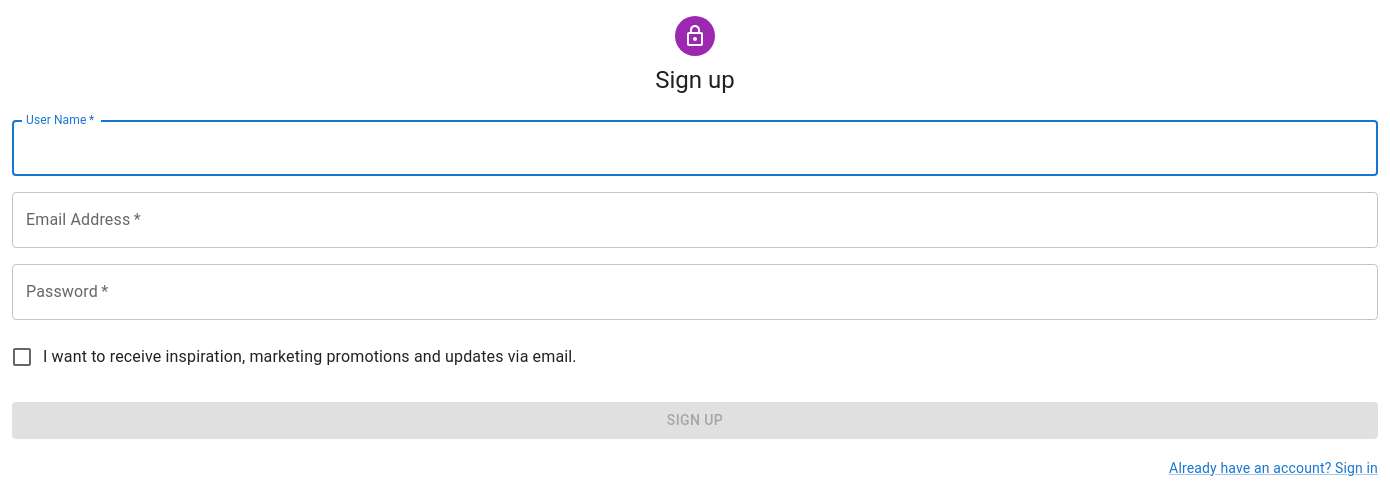
Test: SignUp Component › Form Interaction › should enable Sign Up button when form is valid
Type "Zaina" into the field labelled "User Name *" at (695, 148), box [12,120,1378,176]
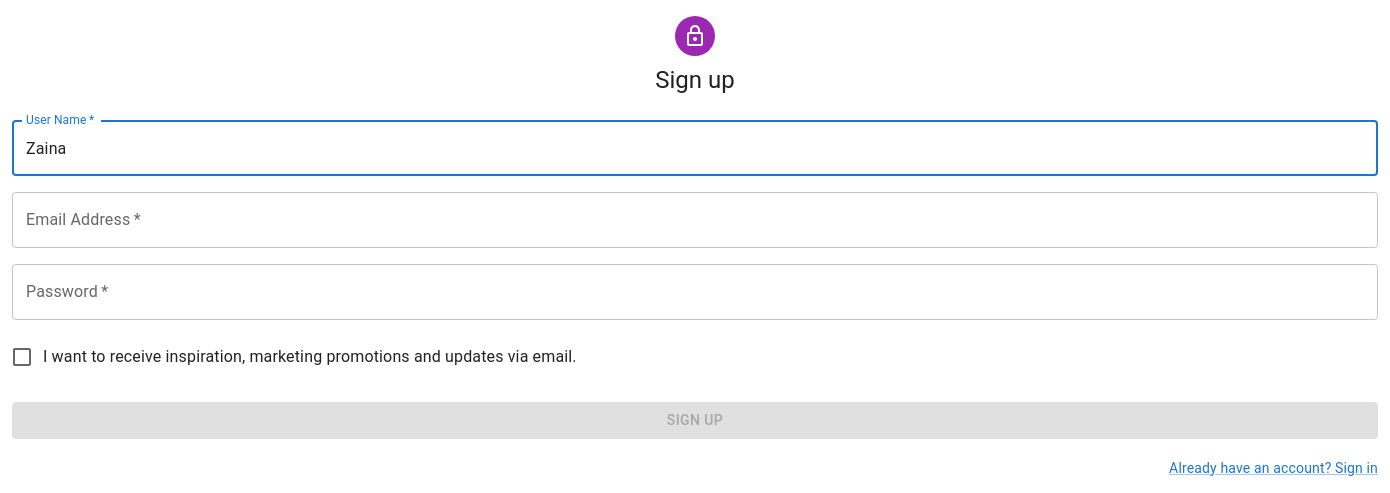
Type "zainarami2002@gmail.com" into the field labelled "Email Address *" at (695, 220), box [12,192,1378,248]
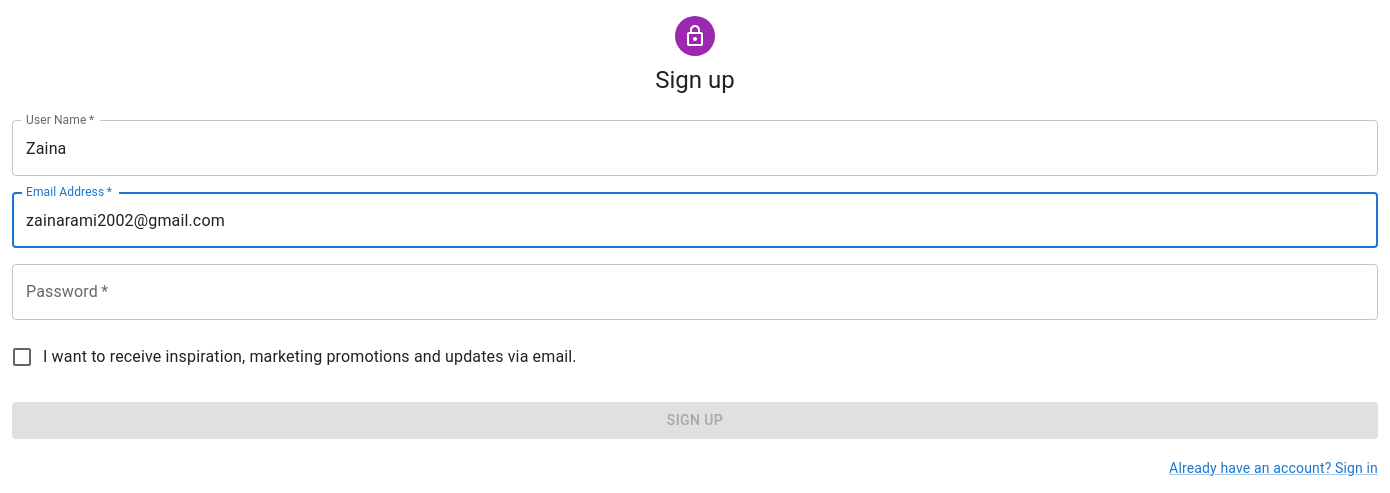
Type "12345678zaina@" into the password field labelled "Password *" at (695, 292), box [12,264,1378,320]
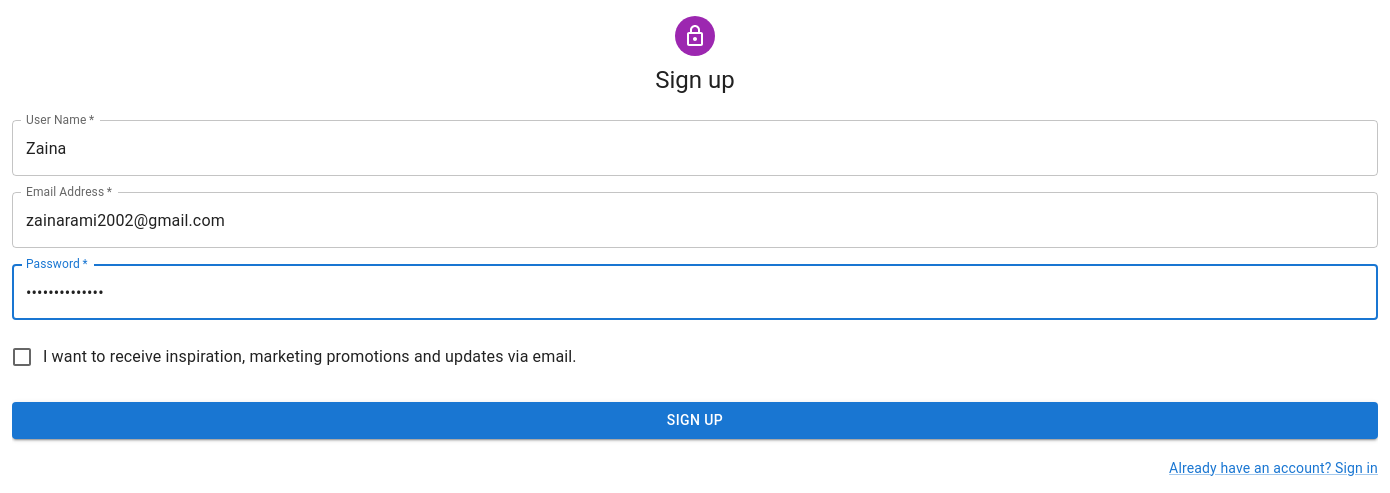
Expected: the button "Sign Up" is enabled, [12,402,1378,438]
